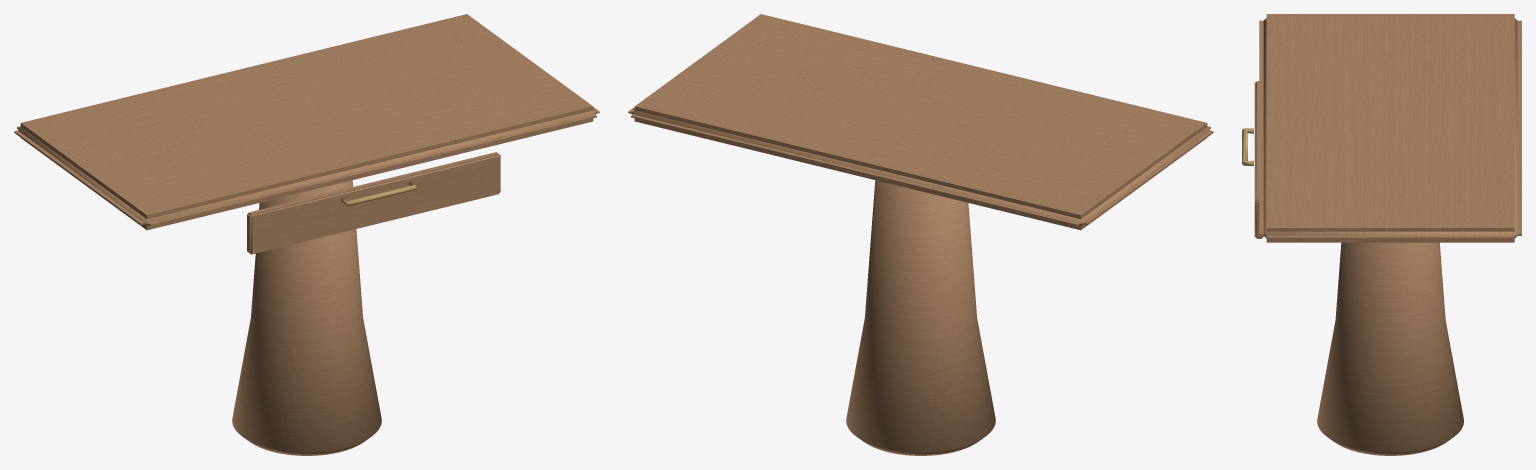
Rendered from contemporary.desk.gltf.
3 renders of one model, left to right at view 1: azimuth 30°, elevation 25°; view 2: azimuth 150°, elevation 25°; view 3: azimuth 270°, elevation 25°, orthographic.
Visible parts, largest first — view 1: contemporary.desk.rounded-top; view 2: contemporary.desk.rounded-top; view 3: contemporary.desk.rounded-top.
Boxes of the visible parts, x1,y1,x2,y2 form: contemporary.desk.rounded-top: (14,14,599,455); contemporary.desk.rounded-top: (628,14,1213,455); contemporary.desk.rounded-top: (1242,14,1521,455).
Size of the model in its own units: 1.15 by 0.75 by 0.618.
2 materials, 1 textured.
